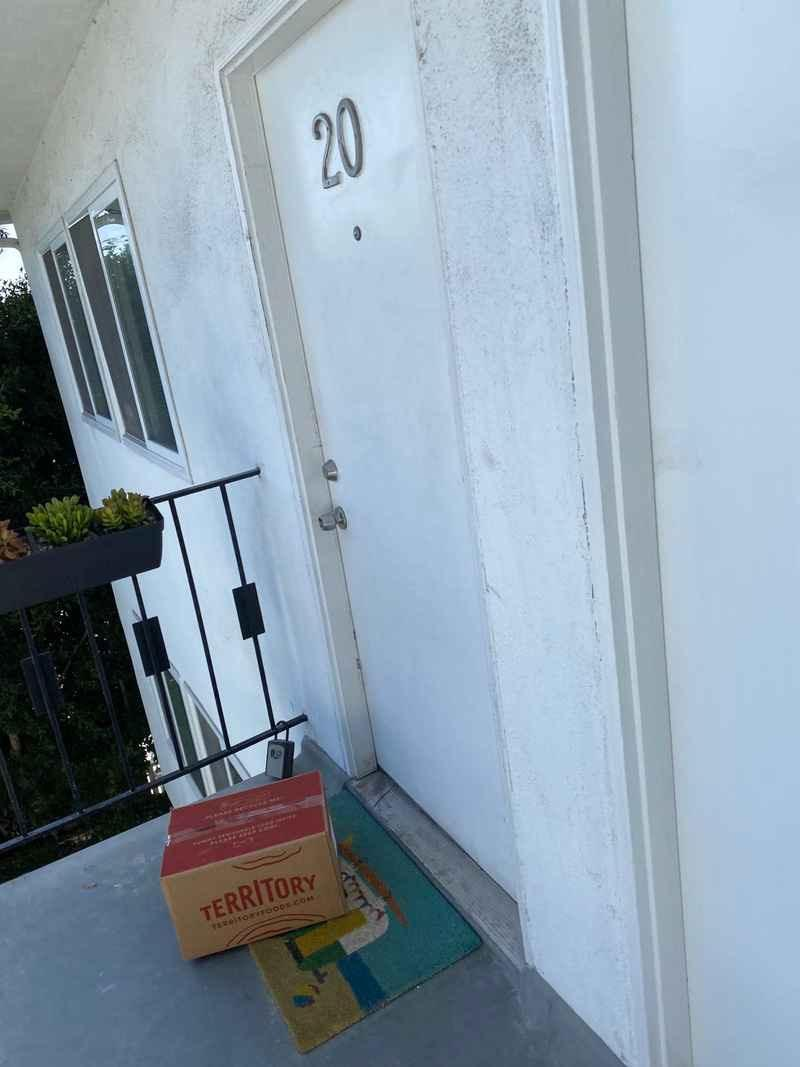package: (156, 796, 352, 944)
